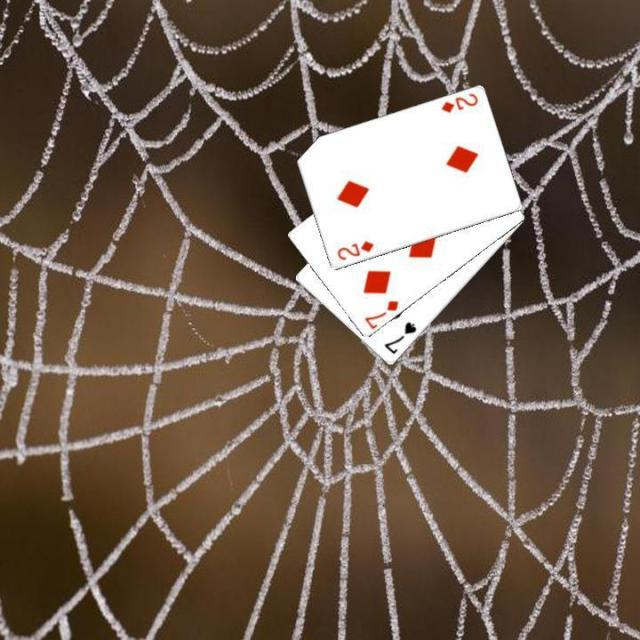2D: (437, 90, 479, 116), (333, 238, 375, 263)
7D: (360, 297, 401, 331)
7S: (381, 319, 419, 357)
